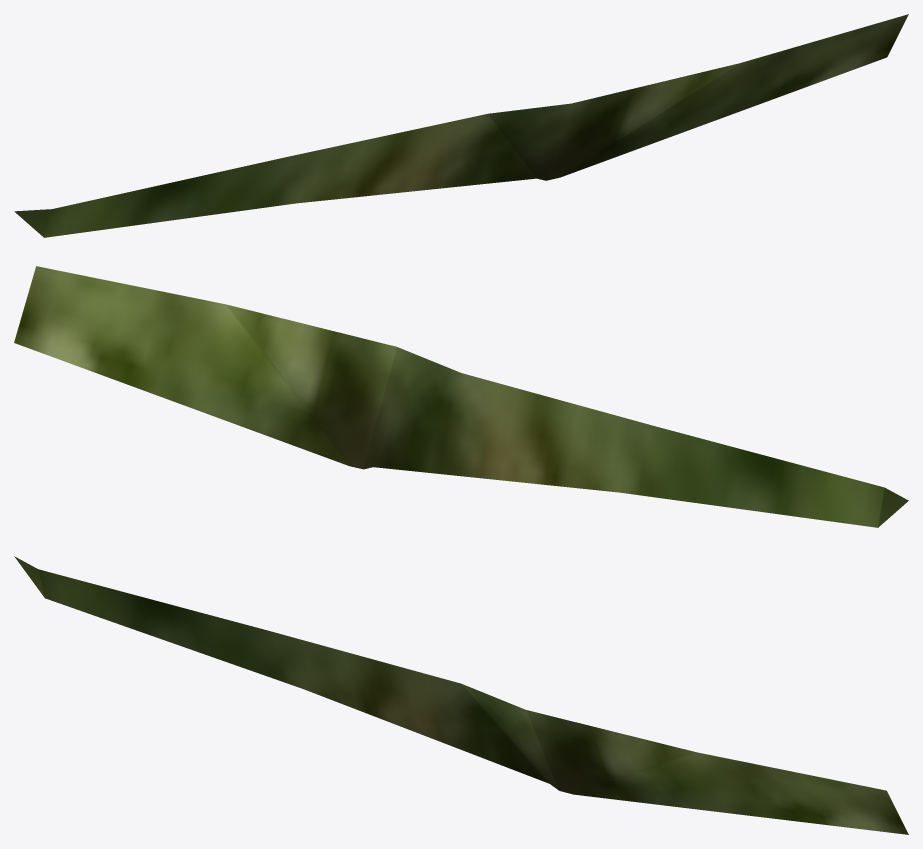
3 views of the same model, one above another, from view 1: azimuth 30°, elevation 25°; view 2: azimuth 150°, elevation 25°; view 3: azimuth 330°, elevation 25° (orthographic). The views are drawn at different scales.
Size of the model in its own units: 0.9986 by 0.1088 by 0.0587.
1 material, 1 textured.
